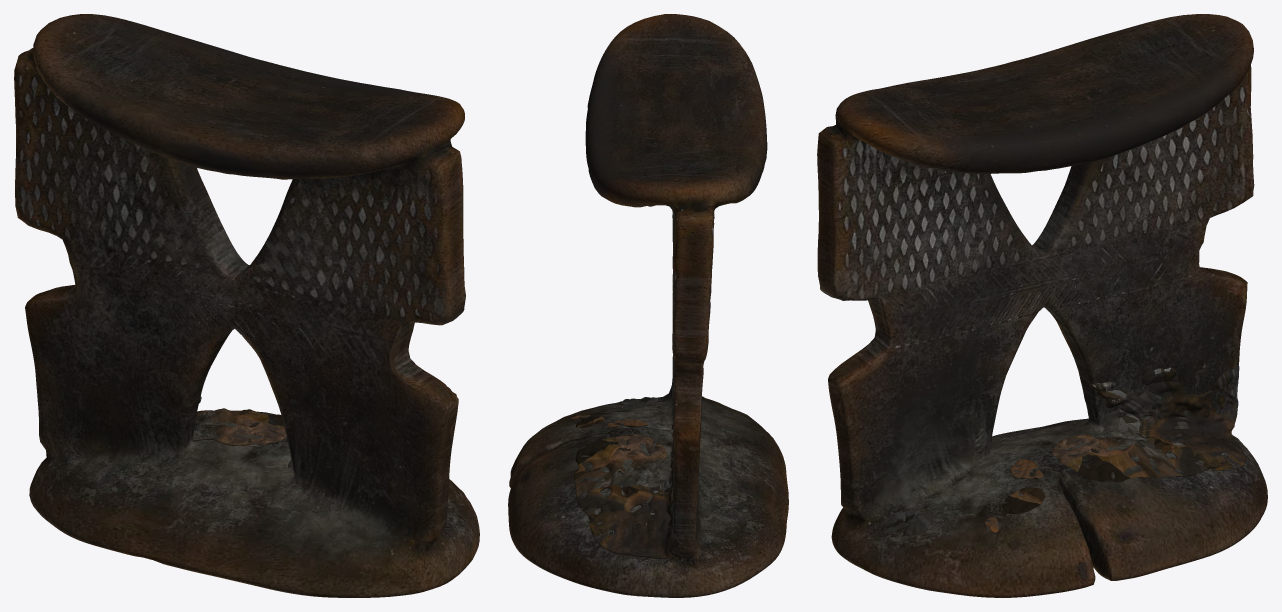
Rendered from headrest.glb.
The picture shows the model from 3 angles, left to right: view 1: azimuth 30°, elevation 25°; view 2: azimuth 150°, elevation 25°; view 3: azimuth 270°, elevation 25°; orthographic projection. The views are drawn at different scales.
Visible parts, largest first — view 1: head_rest, tart; view 2: head_rest, tart; view 3: head_rest, tart.
Boxes of the visible parts, x1,y1,x2,y2 form: head_rest: (14, 14, 479, 597); tart: (192, 396, 452, 527); head_rest: (508, 14, 788, 597); tart: (570, 395, 675, 558); head_rest: (817, 14, 1267, 597); tart: (881, 364, 1245, 536).
Size of the model in its own units: 3.37 by 4.44 by 4.07.
2 materials, 2 textured.
